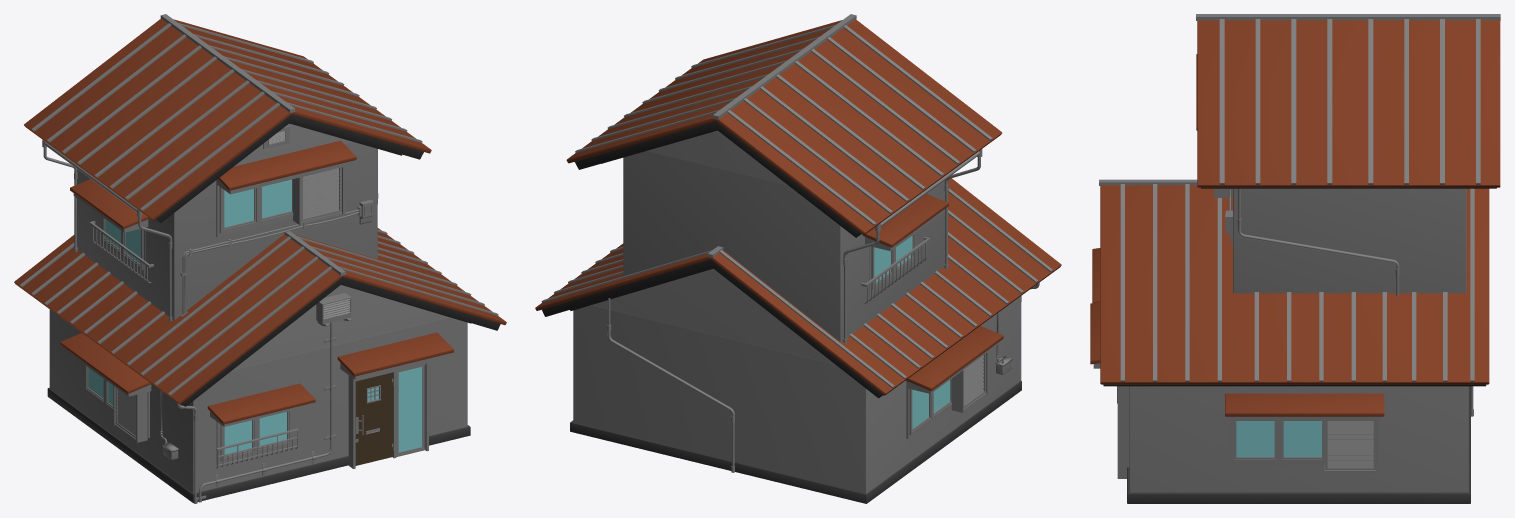
File: SM_house_residential_building_01.fbx
The picture shows the model from 3 angles, left to right: view 1: azimuth 30°, elevation 25°; view 2: azimuth 150°, elevation 25°; view 3: azimuth 270°, elevation 25°; orthographic projection. The views are drawn at different scales.
Parts seen in each view (by area): view 1: Box549; view 2: Box549; view 3: Box549.
Part boxes in pixels (box(x1,y1,x2,y2)): Box549: box(14, 14, 506, 503); Box549: box(535, 14, 1061, 503); Box549: box(1090, 14, 1500, 503).
Bounding box in the file's own units: 366 × 364 × 335.
